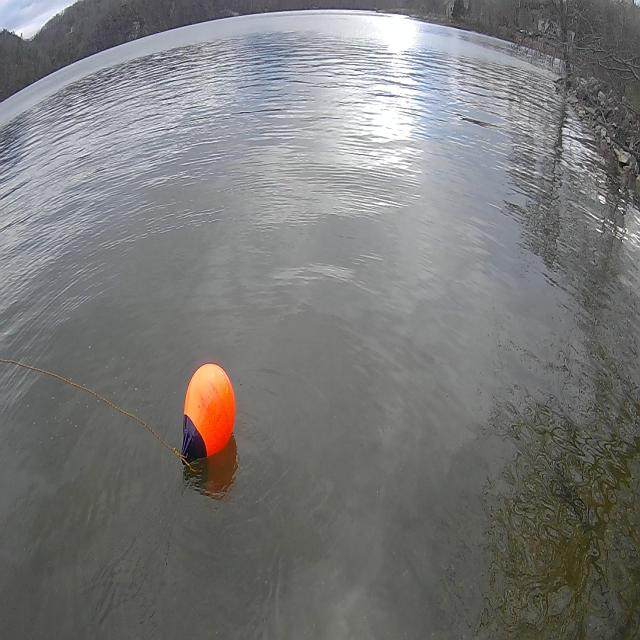Buoy: (179, 357, 238, 463)
